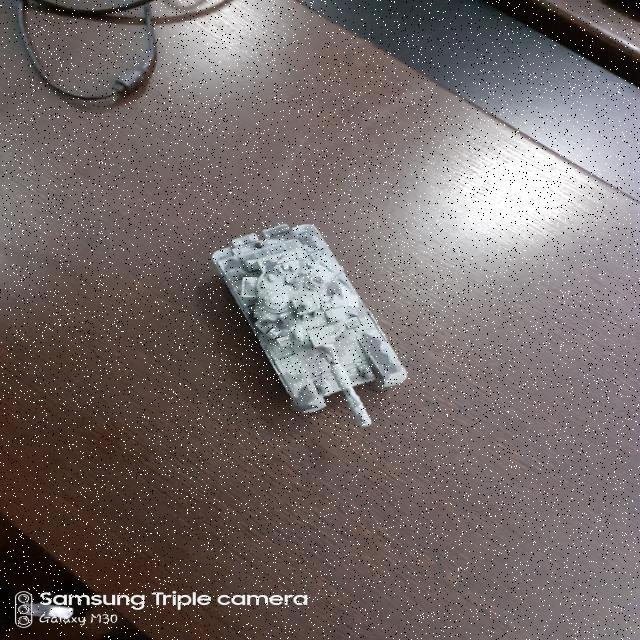MIL_MBT: (212, 220, 410, 430)
